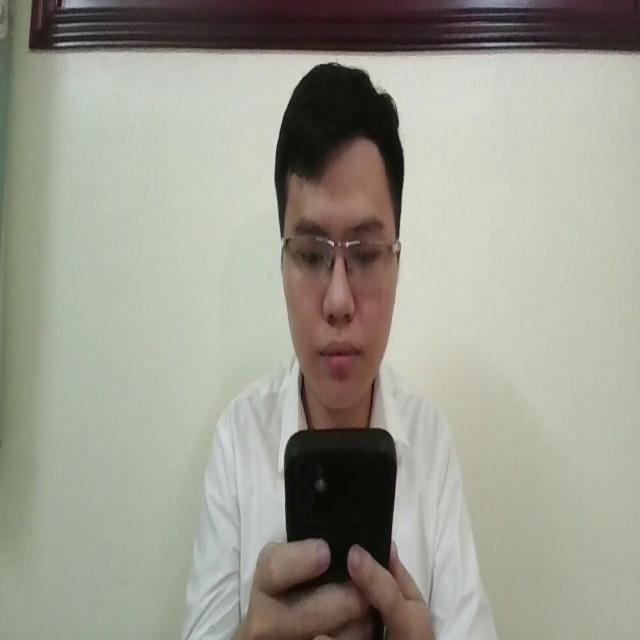phone: (281, 421, 397, 640)
student: (175, 66, 496, 640)
